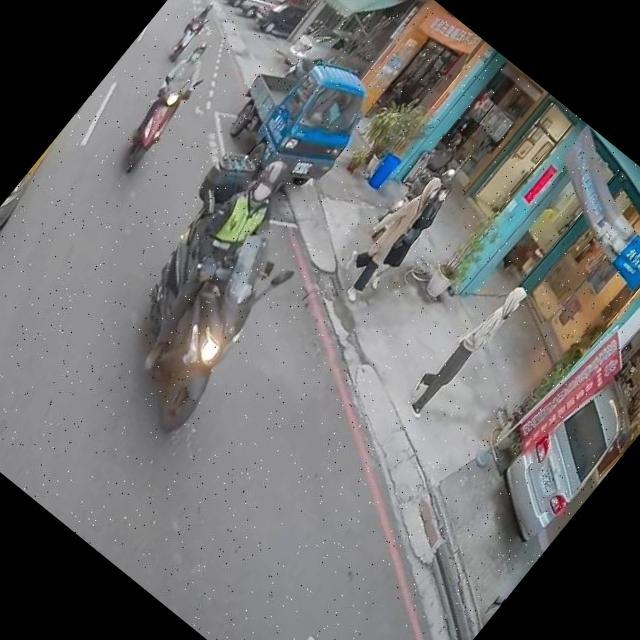person: (113, 149, 339, 393), (395, 267, 537, 428), (326, 155, 462, 309), (344, 160, 469, 304), (116, 32, 226, 154), (465, 532, 554, 638), (180, 0, 221, 42)
